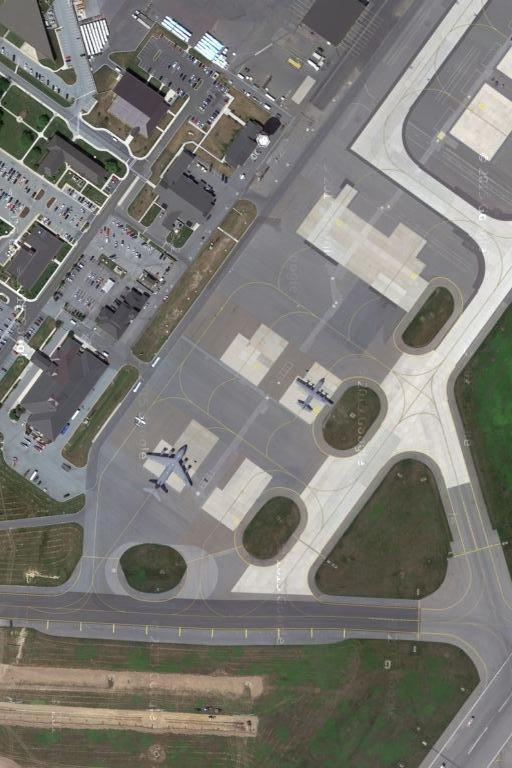C-130: (293, 371, 334, 414)
C-17: (145, 439, 196, 498)
